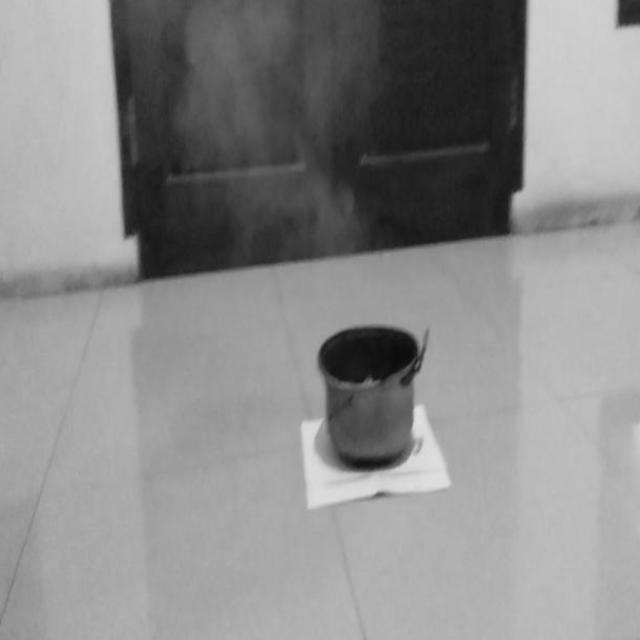fire: (169, 0, 378, 268)
